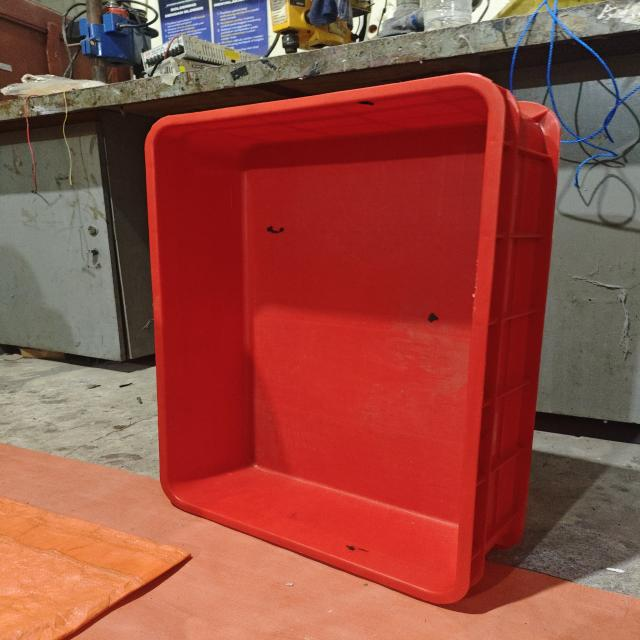red plastic box: (145, 73, 561, 605)
